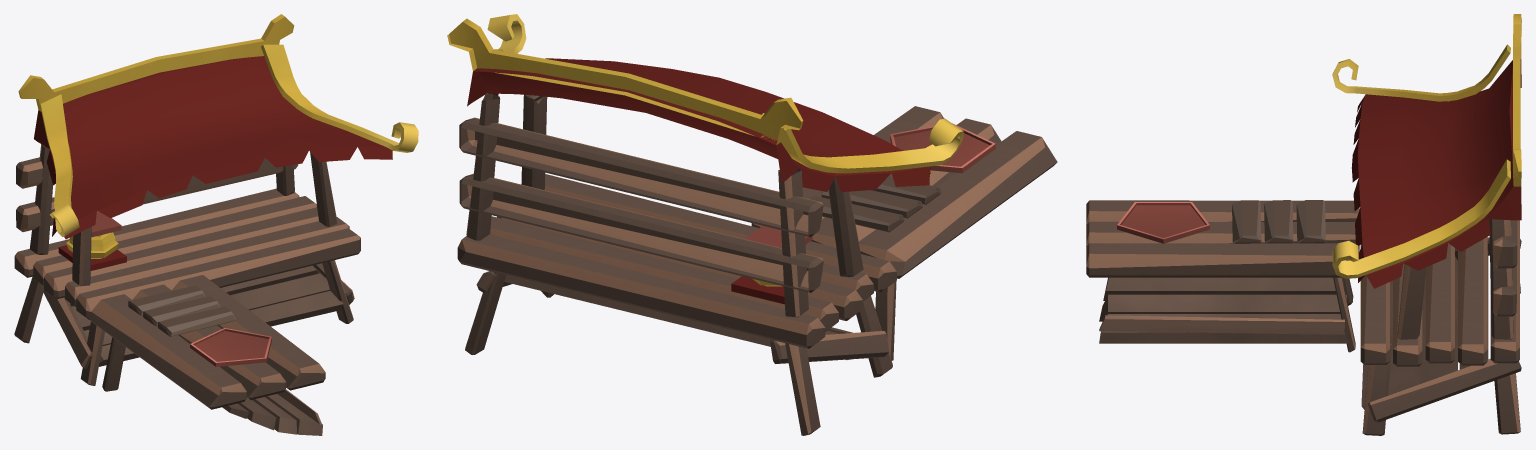
File: shop_2lvl.fbx
3 views of the same model, side by side, from view 1: azimuth 30°, elevation 25°; view 2: azimuth 150°, elevation 25°; view 3: azimuth 270°, elevation 25° (orthographic). The views are drawn at different scales.
Parts seen in each view (by area): view 1: shop_2lvl; view 2: shop_2lvl; view 3: shop_2lvl.
Boxes of the visible parts, left/top/right/bottom form: shop_2lvl: left=14, top=14, right=418, bottom=435; shop_2lvl: left=447, top=14, right=1057, bottom=435; shop_2lvl: left=1086, top=14, right=1521, bottom=435.
Bounding box in the file's own units: 391 × 267 × 366.
